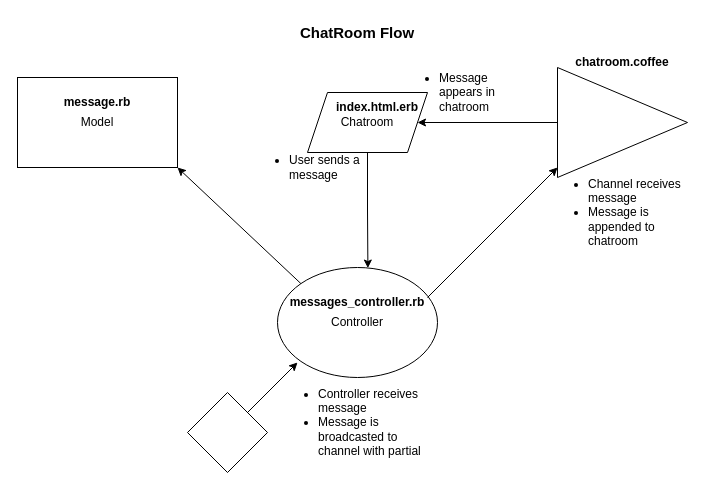
The diagram is 715 pixels wide and 490 high, and some of its shapes have lost their labels. The shapes that lost their labels are listed below. From the top down, each one's centre as x and y in pixels, then its label:
At (x=622, y=122): "View".
At (x=227, y=432): "Partial".
